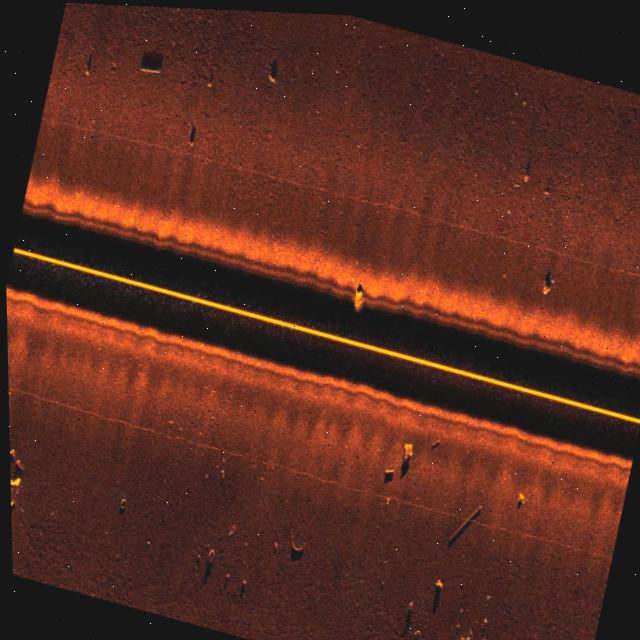mine: (134, 42, 170, 79), (177, 129, 202, 155), (342, 281, 366, 303), (377, 459, 395, 483), (424, 430, 441, 449)
other: (440, 489, 483, 554), (7, 423, 24, 525), (394, 434, 414, 469)
